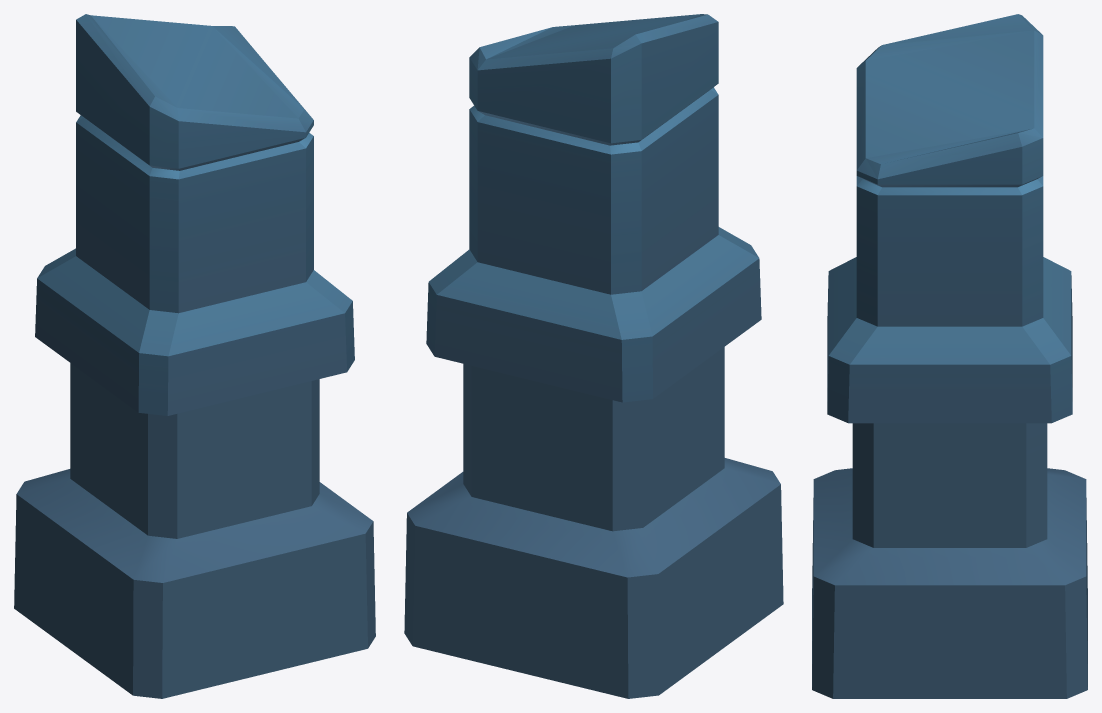
The model's file is Pillar Broken 01.002.fbx.
3 renders of one model, left to right at view 1: azimuth 30°, elevation 25°; view 2: azimuth 150°, elevation 25°; view 3: azimuth 270°, elevation 25°, orthographic. The views are drawn at different scales.
Visible parts, largest first — view 1: Pillar Broken 01.002; view 2: Pillar Broken 01.002; view 3: Pillar Broken 01.002.
Boxes of the visible parts, x1,y1,x2,y2 form: Pillar Broken 01.002: (14, 14, 375, 698); Pillar Broken 01.002: (404, 14, 783, 698); Pillar Broken 01.002: (812, 14, 1087, 698).
Bounding box in the file's own units: 71.87 × 170 × 71.89.
